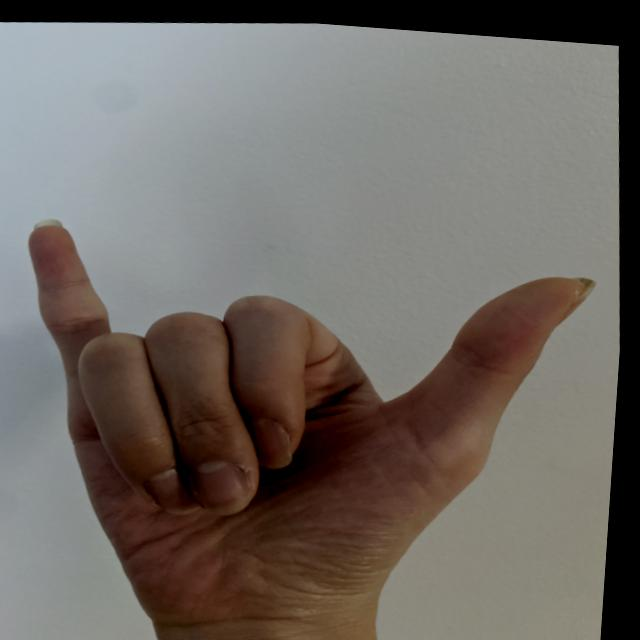Y: (3, 174, 630, 639)
